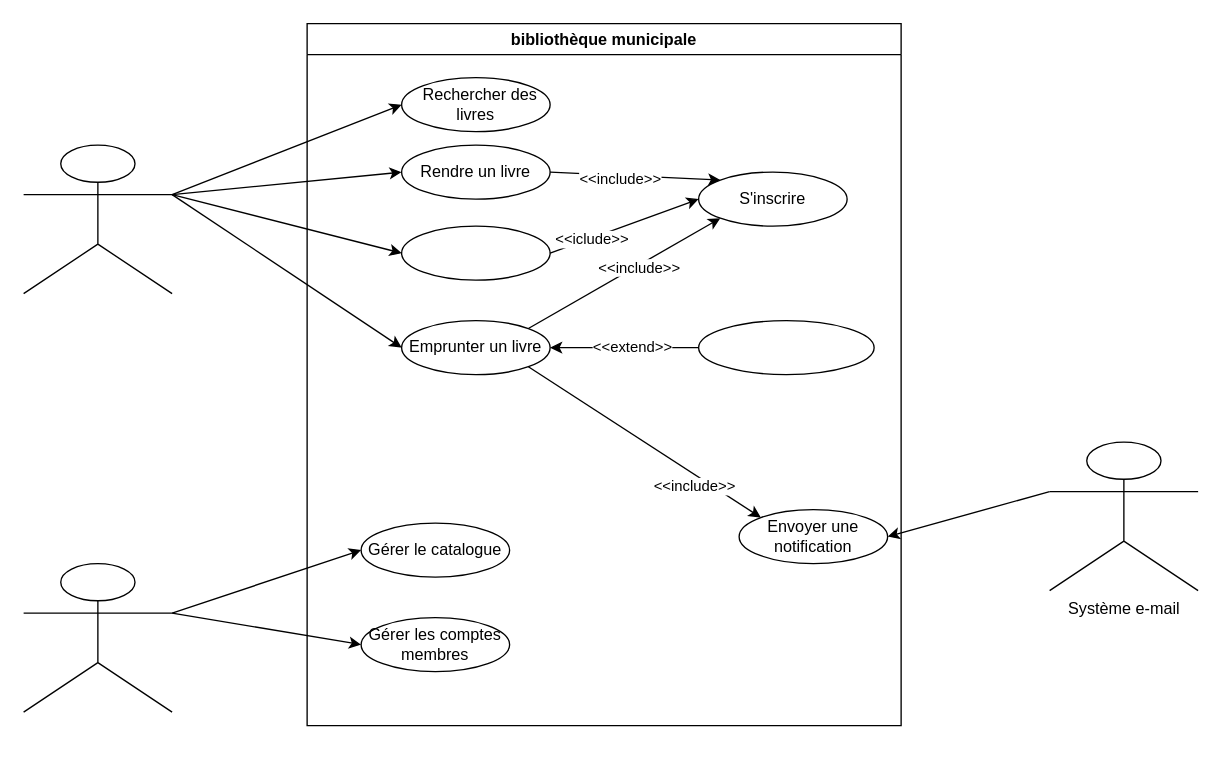
Some shapes in this 1222 by 764 pixel diagram are drawn without their labels. The centre of each missing label's shape, as x and y in pixels:
Admin: (97,637)
Consulter son historique: (475,252)
Membre: (97,219)
Prolonger la durée d’emprunt: (785,347)
